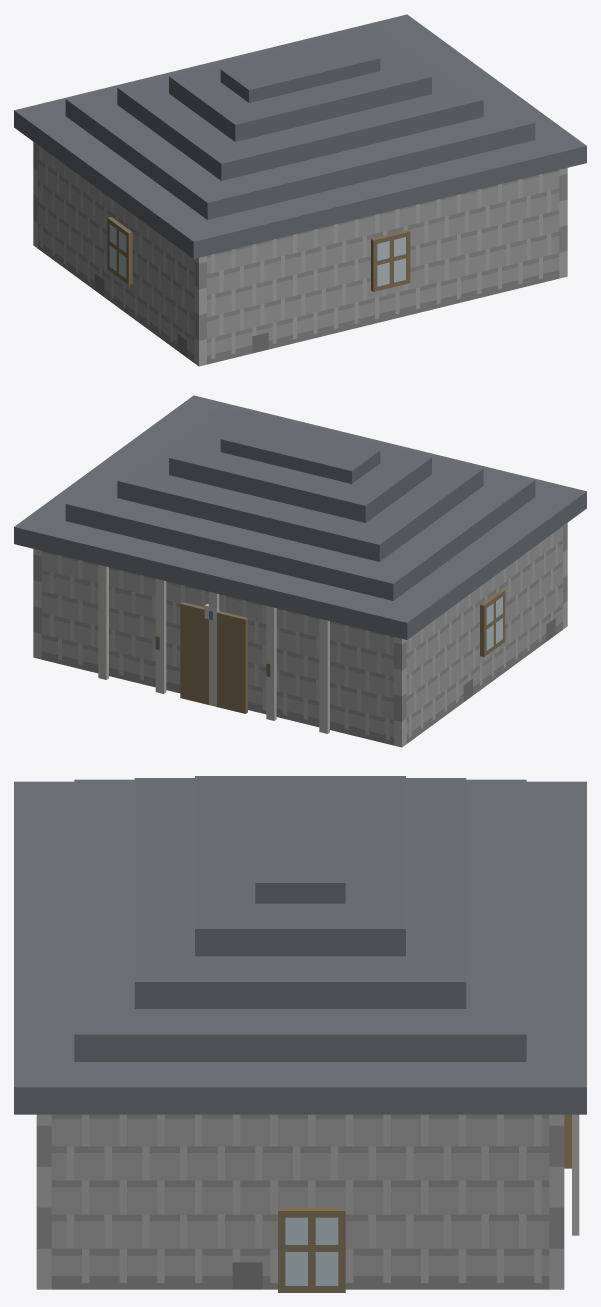
File: capitania_puerto_03.glb
The picture shows the model from 3 angles, top to bottom: view 1: azimuth 30°, elevation 25°; view 2: azimuth 150°, elevation 25°; view 3: azimuth 270°, elevation 25°; orthographic projection. The views are drawn at different scales.
Visible parts, largest first — view 1: capitania_puerto_03; view 2: capitania_puerto_03; view 3: capitania_puerto_03.
Boxes of the visible parts, box(x1,y1,x2,y2) form: capitania_puerto_03: box(14, 14, 586, 366); capitania_puerto_03: box(14, 395, 586, 747); capitania_puerto_03: box(14, 776, 586, 1292).
Size of the model in its own units: 9.6 by 4.6 by 7.6.
